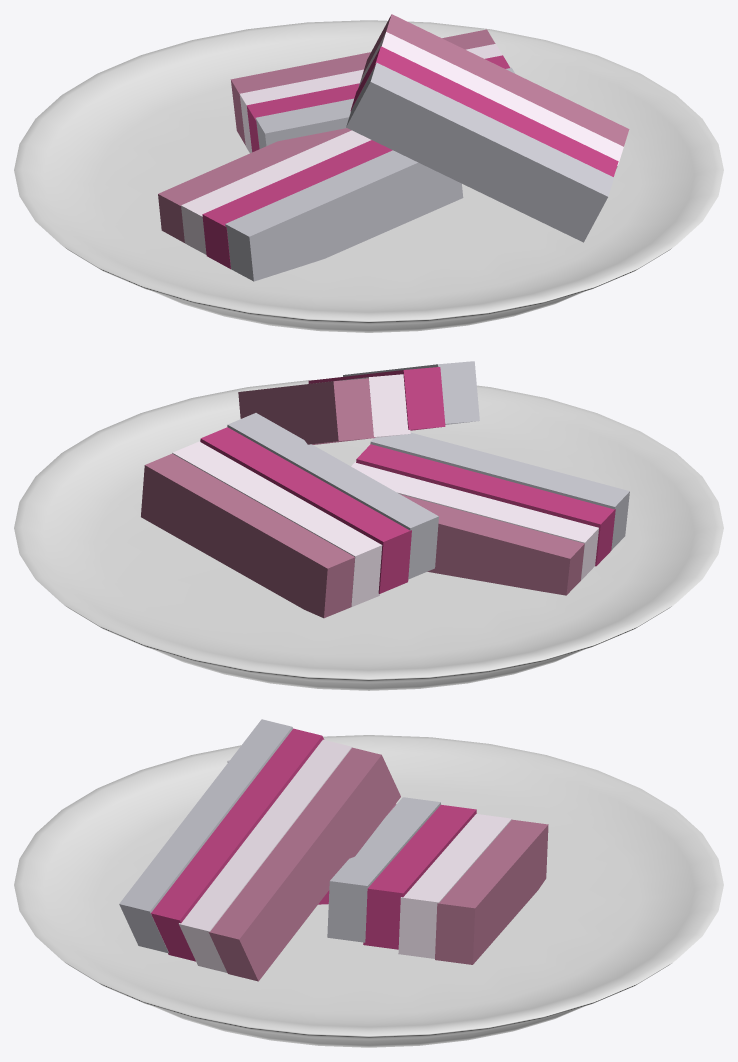
File: kue lapis.fbx
3 views of the same model, one above another, from view 1: azimuth 30°, elevation 25°; view 2: azimuth 150°, elevation 25°; view 3: azimuth 270°, elevation 25° (orthographic).
Visible parts, largest first — view 1: Cylinder, Cube.019, Cube.015, Cube.016, Cube.018, Cube.014, Cube.017, Cube.012, Cube.013, Cube.020, Cube.023, Cube.021 (+1 smaller); view 2: Cylinder, Cube.020, Cube.012, Cube.022, Cube.023, Cube.021, Cube.016, Cube.014, Cube.015, Cube.013, Cube.018, Cube.019 (+1 smaller); view 3: Cylinder, Cube.016, Cube.020, Cube.019, Cube.018, Cube.017, Cube.023, Cube.022, Cube.021.
Boxes of the visible parts, x1,y1,x2,y2 form: Cylinder: [14, 20, 723, 332]; Cube.019: [346, 62, 613, 242]; Cube.015: [225, 150, 463, 281]; Cube.016: [362, 14, 629, 146]; Cube.018: [350, 46, 618, 176]; Cube.014: [202, 140, 392, 269]; Cube.017: [358, 32, 623, 168]; Cube.012: [158, 128, 351, 242]; Cube.013: [181, 130, 370, 254]; Cube.020: [230, 29, 495, 145]; Cube.023: [255, 67, 514, 148]; Cube.021: [239, 44, 502, 153]; Cylinder: [14, 380, 723, 690]; Cube.020: [141, 453, 354, 618]; Cube.012: [400, 494, 584, 595]; Cube.022: [200, 427, 411, 593]; Cube.023: [227, 413, 438, 579]; Cube.021: [172, 441, 382, 606]; Cube.016: [238, 378, 375, 444]; Cube.014: [356, 444, 615, 566]; Cube.015: [370, 432, 629, 550]; Cube.013: [351, 461, 598, 580]; Cube.018: [308, 367, 445, 430]; Cube.019: [343, 361, 479, 424]; Cylinder: [14, 735, 723, 1047]; Cube.016: [208, 747, 400, 981]; Cube.020: [435, 819, 548, 964]; Cube.019: [119, 719, 292, 953]; Cube.018: [151, 728, 324, 961]; Cube.017: [179, 739, 352, 972]; Cube.023: [327, 797, 440, 942]; Cube.022: [363, 804, 476, 949]; Cube.021: [398, 814, 511, 958].
Size of the model in its own units: 472 by 137 by 472.
